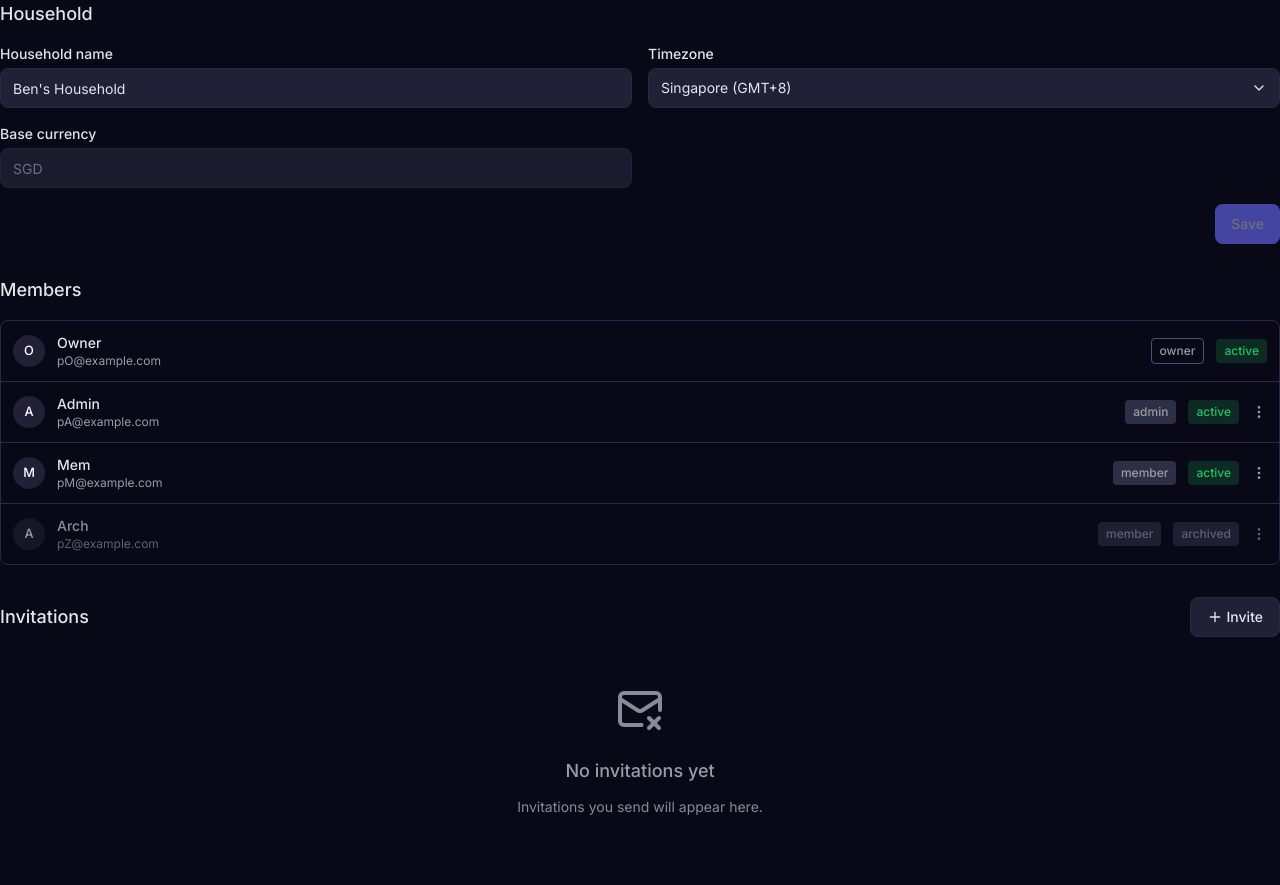
Delete-if-empty (owner viewer) › enabled when canDelete → confirm → DELETE; disabled when canDelete is false
Expected: the text "Mem" is shown, [57, 456, 90, 473]
pM is empty (canDelete true) → Delete is enabled and fires.
What coordinates should you click on to do the following:
click the button named "Actions for Mem" in the row of "pM@example.com"
I would click on:
 (1251, 465)
Its box is [1251, 465, 1267, 481].
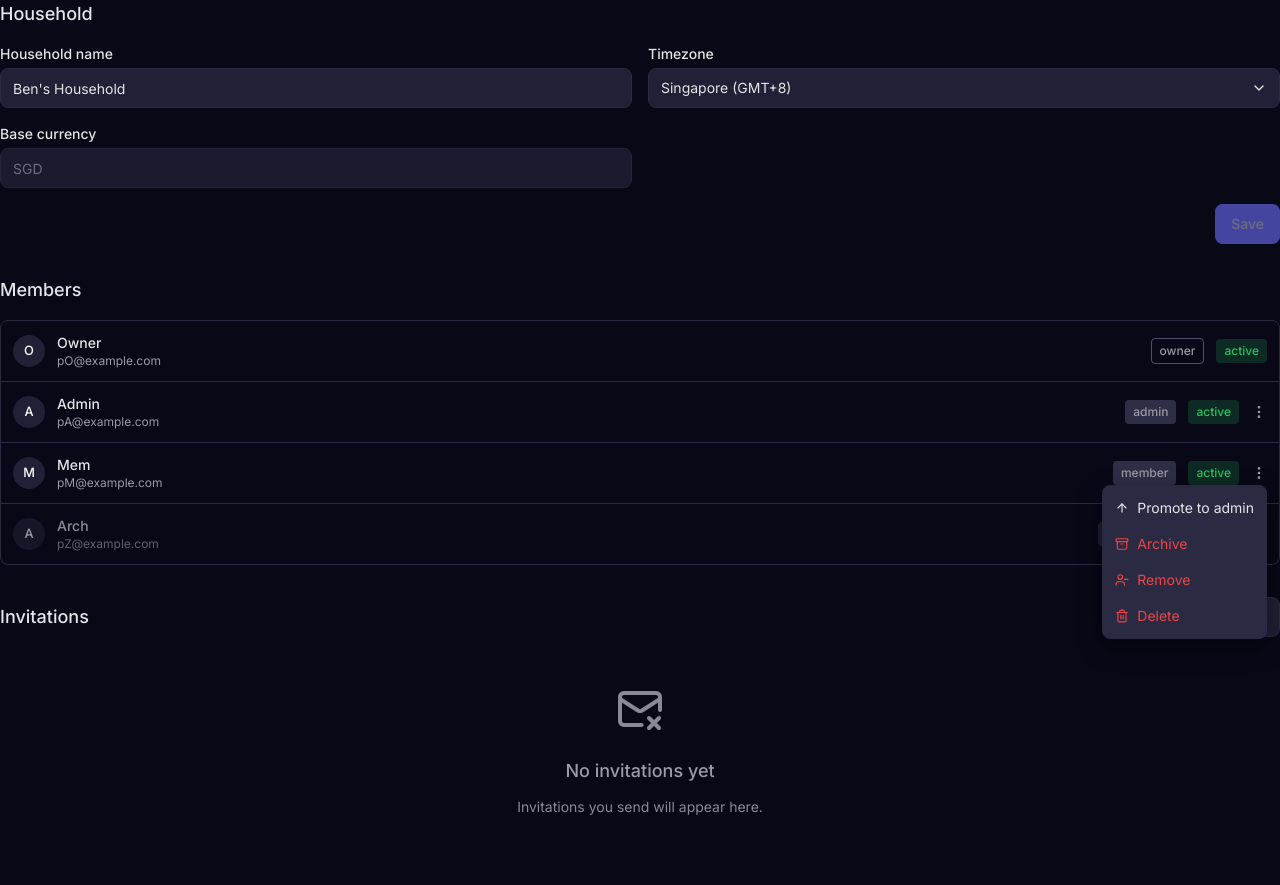
Expected: the menu item "Delete" is enabled
What coordinates should you click on to do the following:
click the menu item "Delete"
I would click on:
 (1185, 616)
Its box is [1103, 598, 1266, 634].
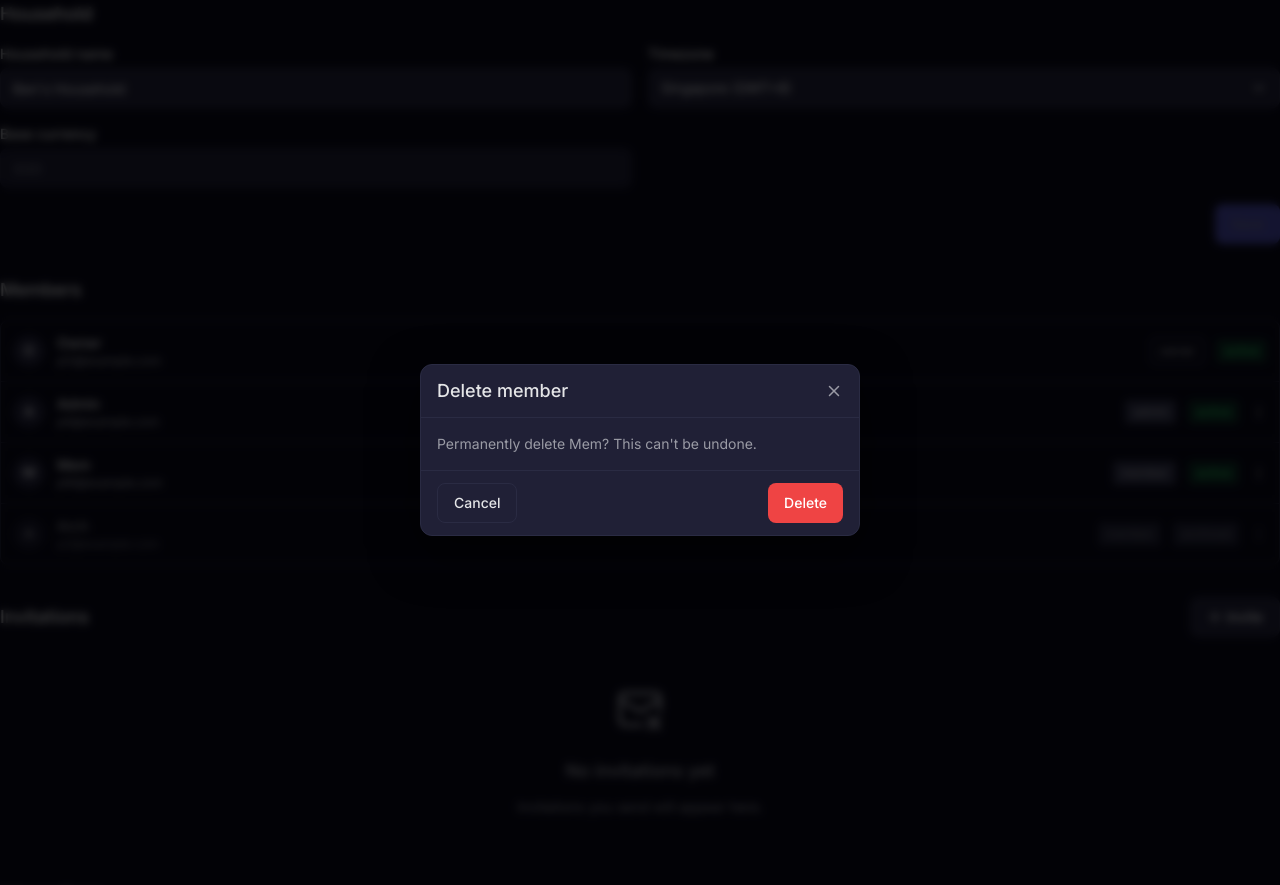
What coordinates should you click on to do the following:
click the button "Delete"
I would click on:
 (806, 503)
Its box is [768, 483, 843, 523].
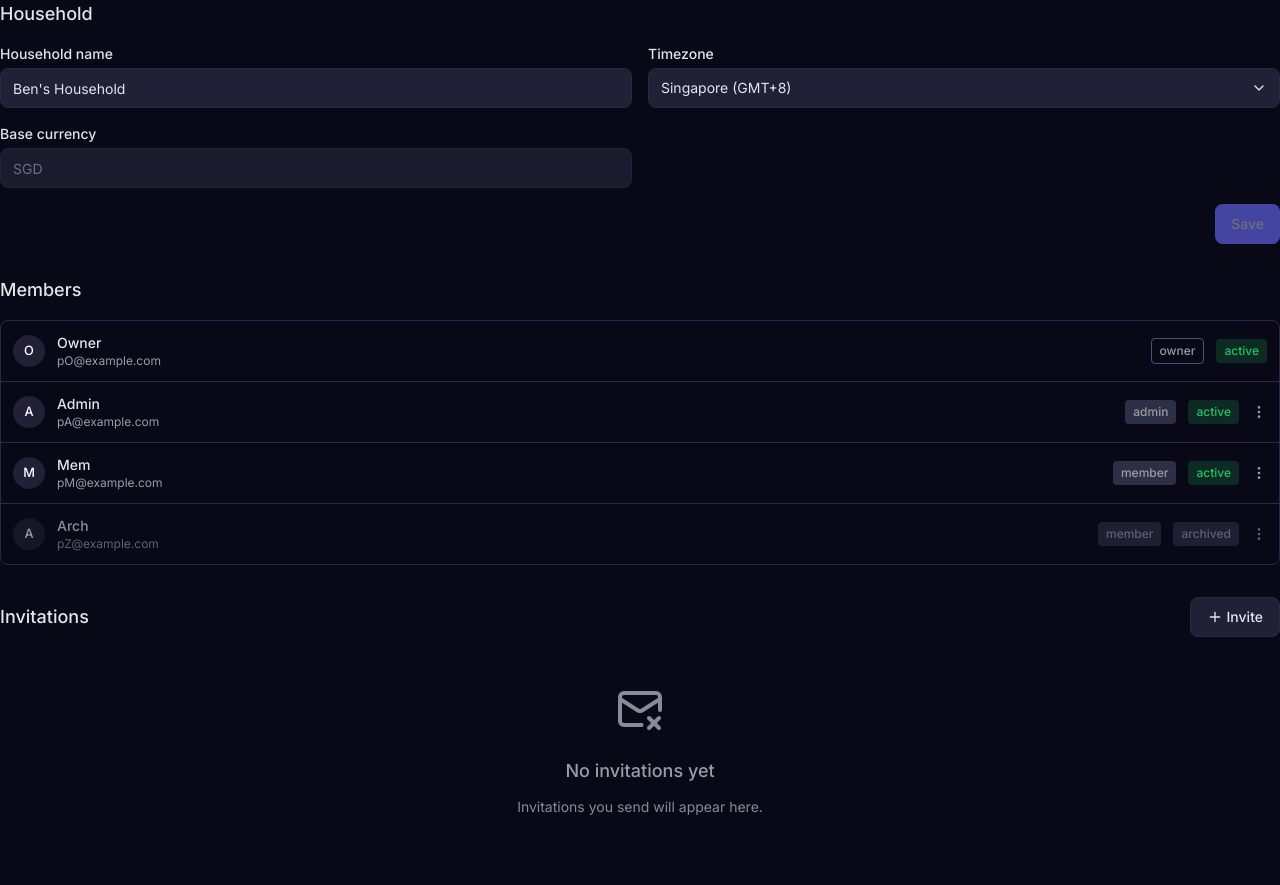
pA has data (canDelete false) → Delete is disabled.
What coordinates should you click on to do the following:
click the button named "Actions for Admin" in the row of "pA@example.com"
I would click on:
 (1251, 404)
Its box is [1251, 404, 1267, 420].
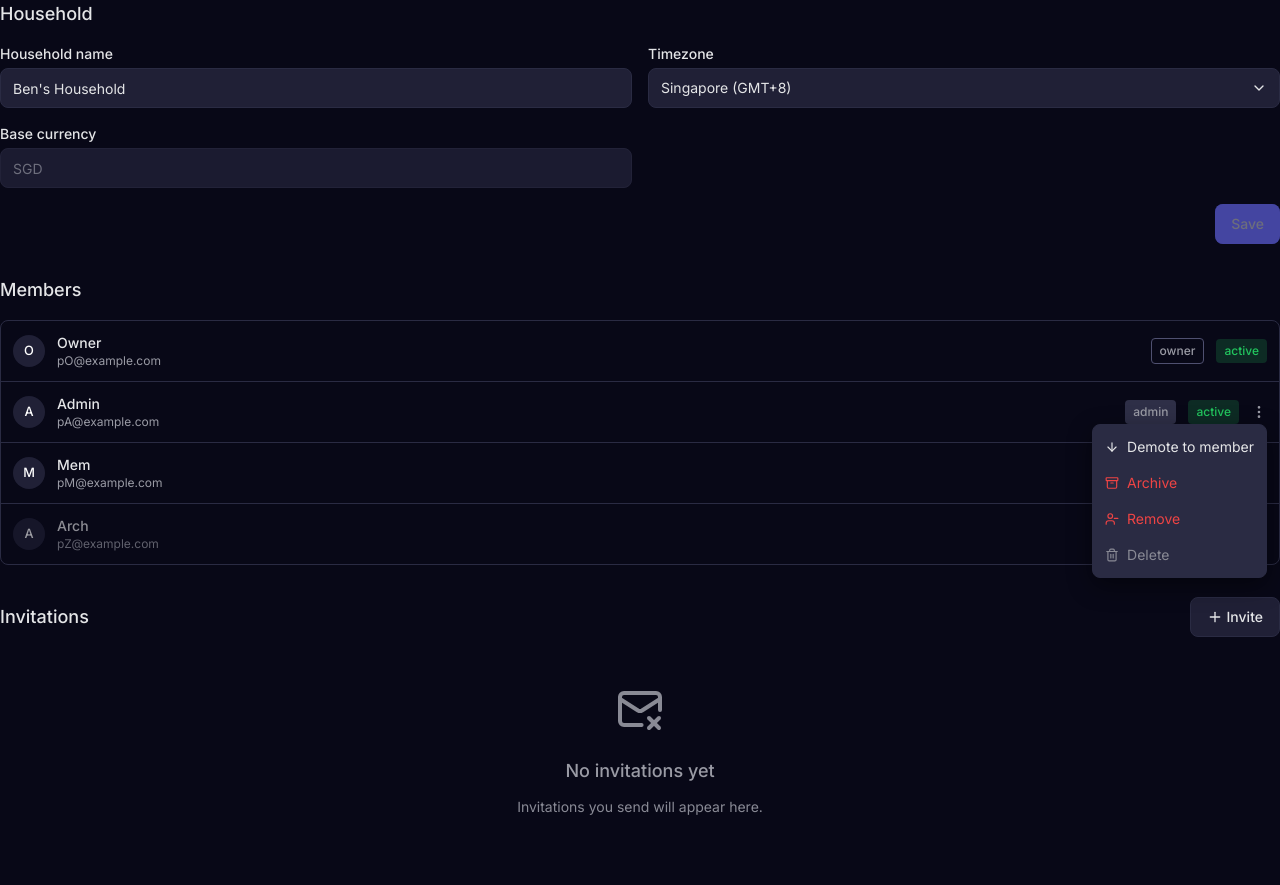
Expected: the menu item "Delete" is disabled, [1093, 537, 1266, 573]
